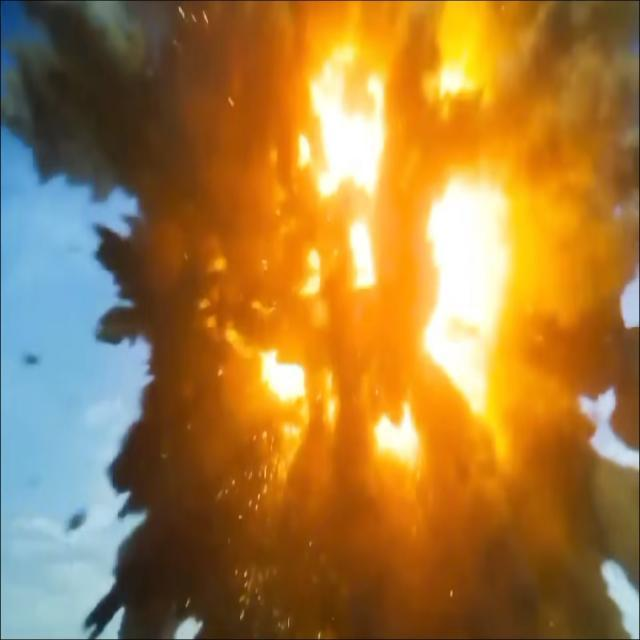fire: (150, 10, 636, 598)
